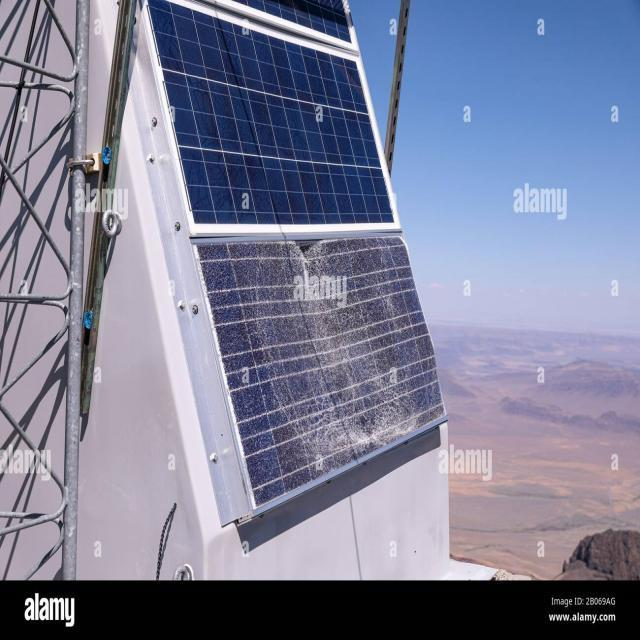faulty: (196, 236, 448, 518)
no faulty: (138, 0, 402, 236)
